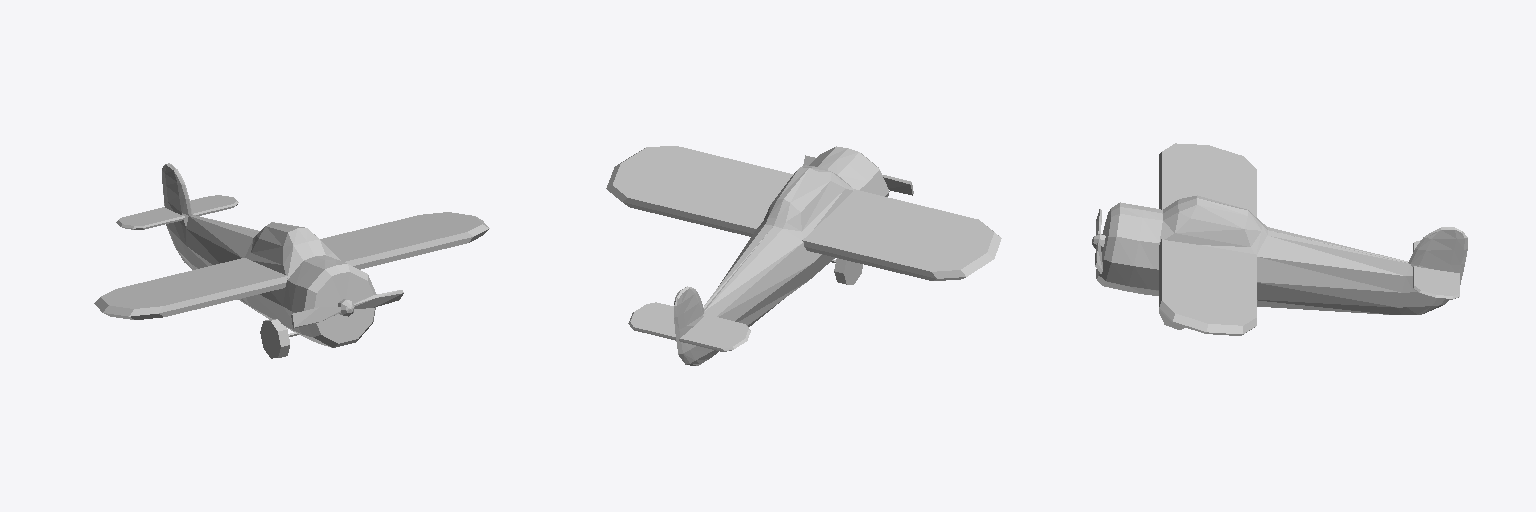
The model's file is objPlane.obj.
3 renders of one model, left to right at view 1: azimuth 30°, elevation 25°; view 2: azimuth 150°, elevation 25°; view 3: azimuth 270°, elevation 25°, orthographic.
Visible parts, largest first — view 1: polySurface5; view 2: polySurface5; view 3: polySurface5.
Part boxes in pixels (x1,y1,x2,y2): polySurface5: (94,163,489,358); polySurface5: (606,146,1001,365); polySurface5: (1092,143,1467,335).
Size of the model in its own units: 70.65 by 20.61 by 60.68.